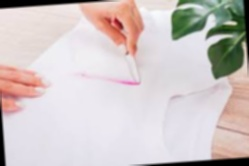lipstick: (74, 74, 143, 92)
